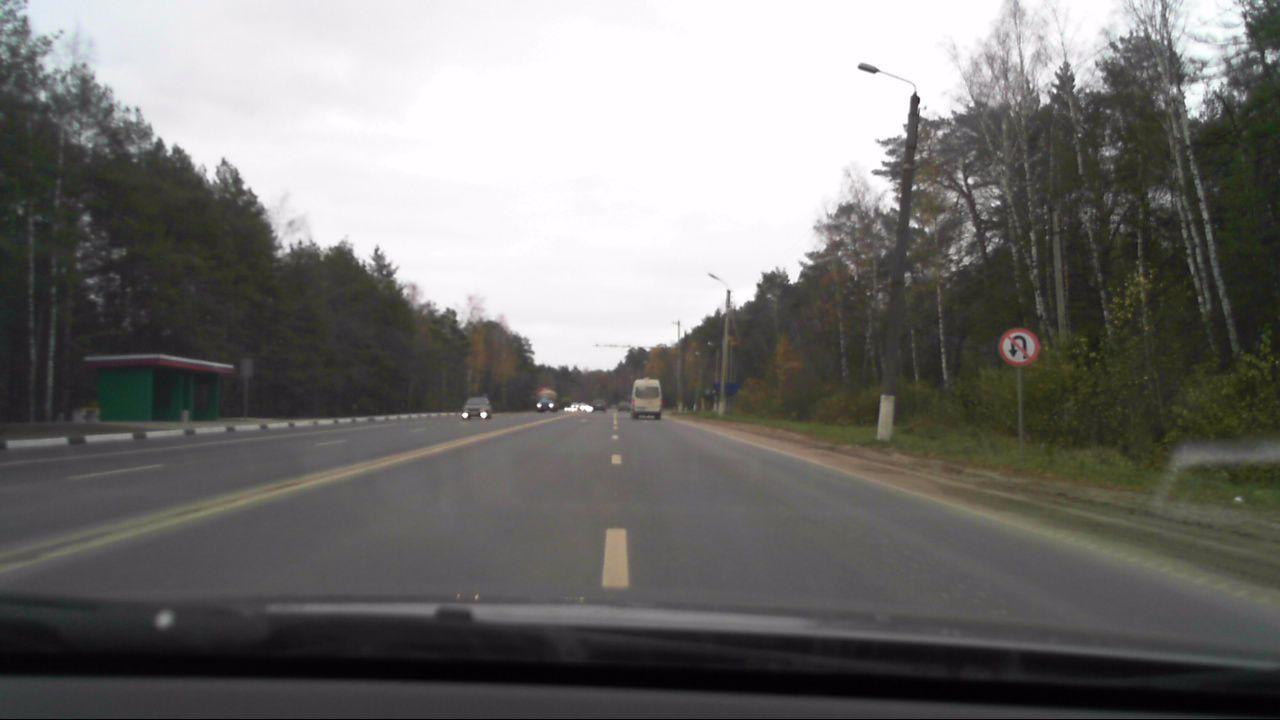3_19: (994, 325, 1042, 370)
